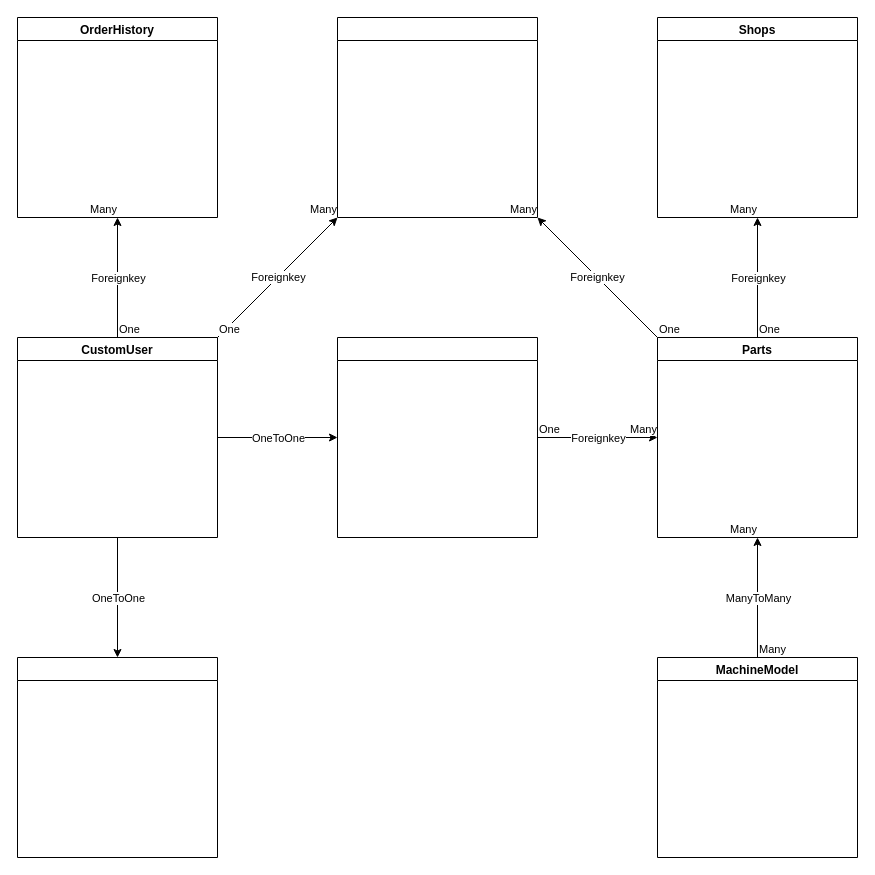
Some shapes in this 875 by 875 pixel diagram are drawn without their labels. Each missing label, with the centre of its shape:
Cart: pixel 437 437
Comments: pixel 437 117
UserProfile: pixel 117 757
